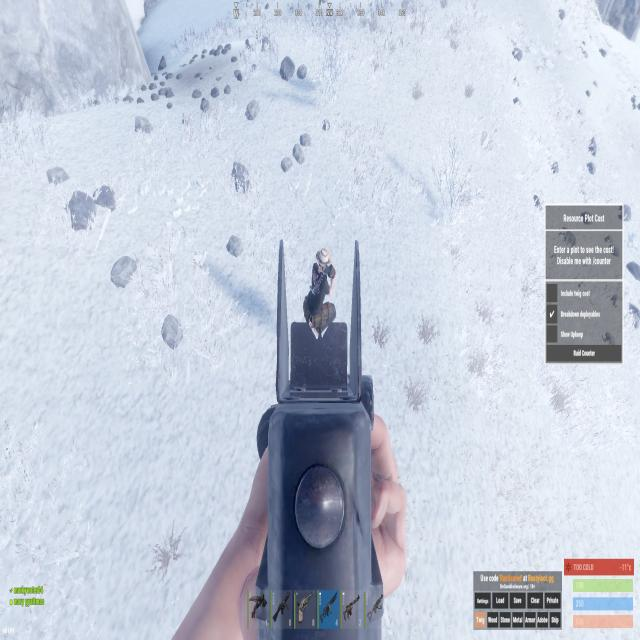Player: (303, 247, 337, 342)
